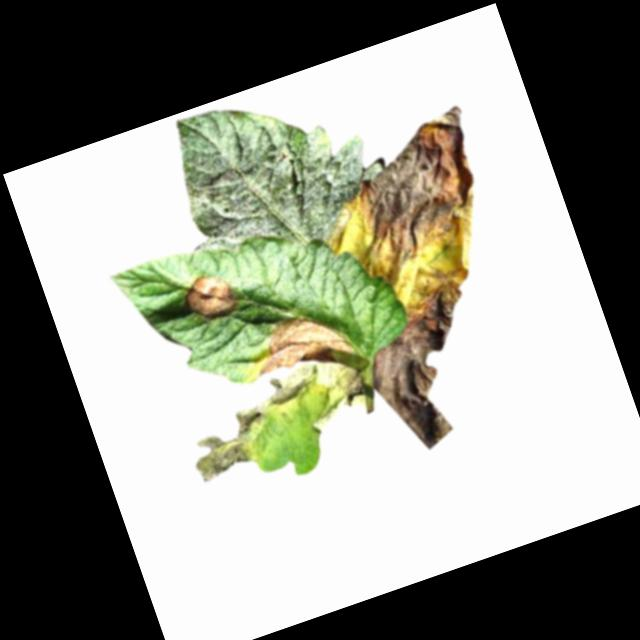Late_blight: (325, 100, 511, 278), (347, 276, 514, 460), (174, 346, 379, 486), (244, 297, 362, 385), (180, 266, 245, 328)
healthy: (150, 60, 398, 282)
